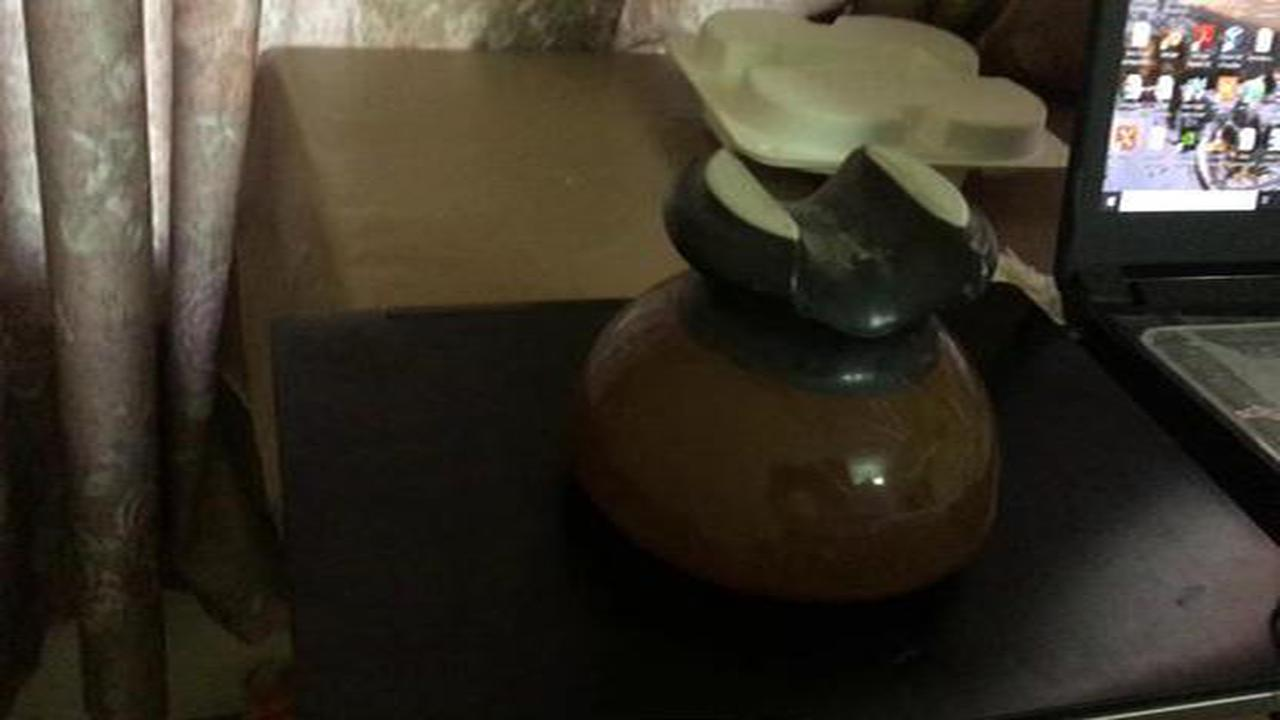insulator_pin: (548, 122, 1044, 625)
